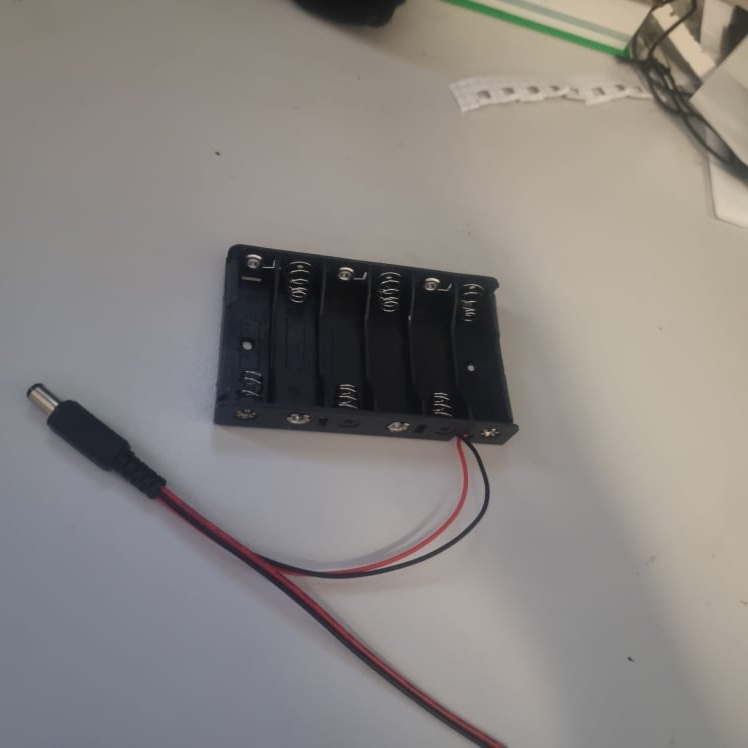BATTERY BOX: (210, 243, 521, 448)
